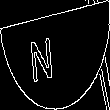N_N: (41, 27, 69, 83)
